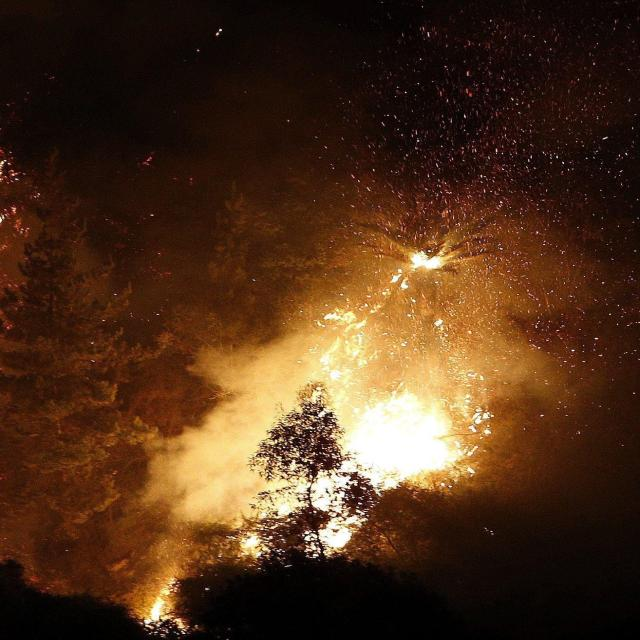Fire: (161, 229, 526, 606)
